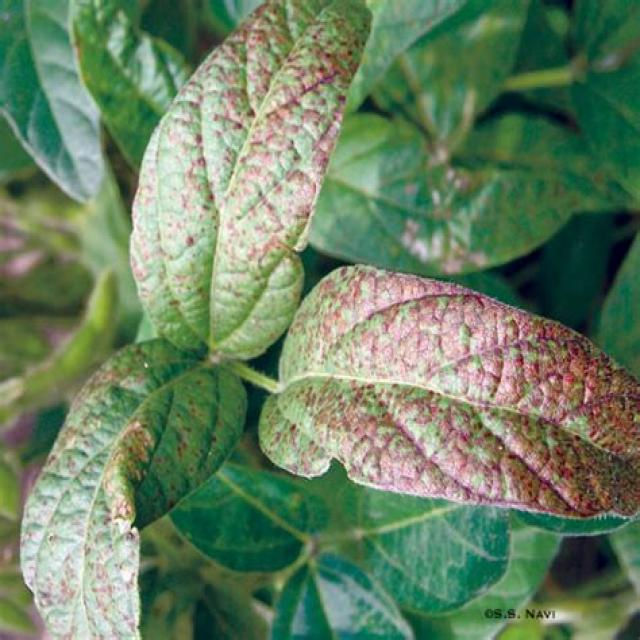blight: (353, 286, 513, 476)
